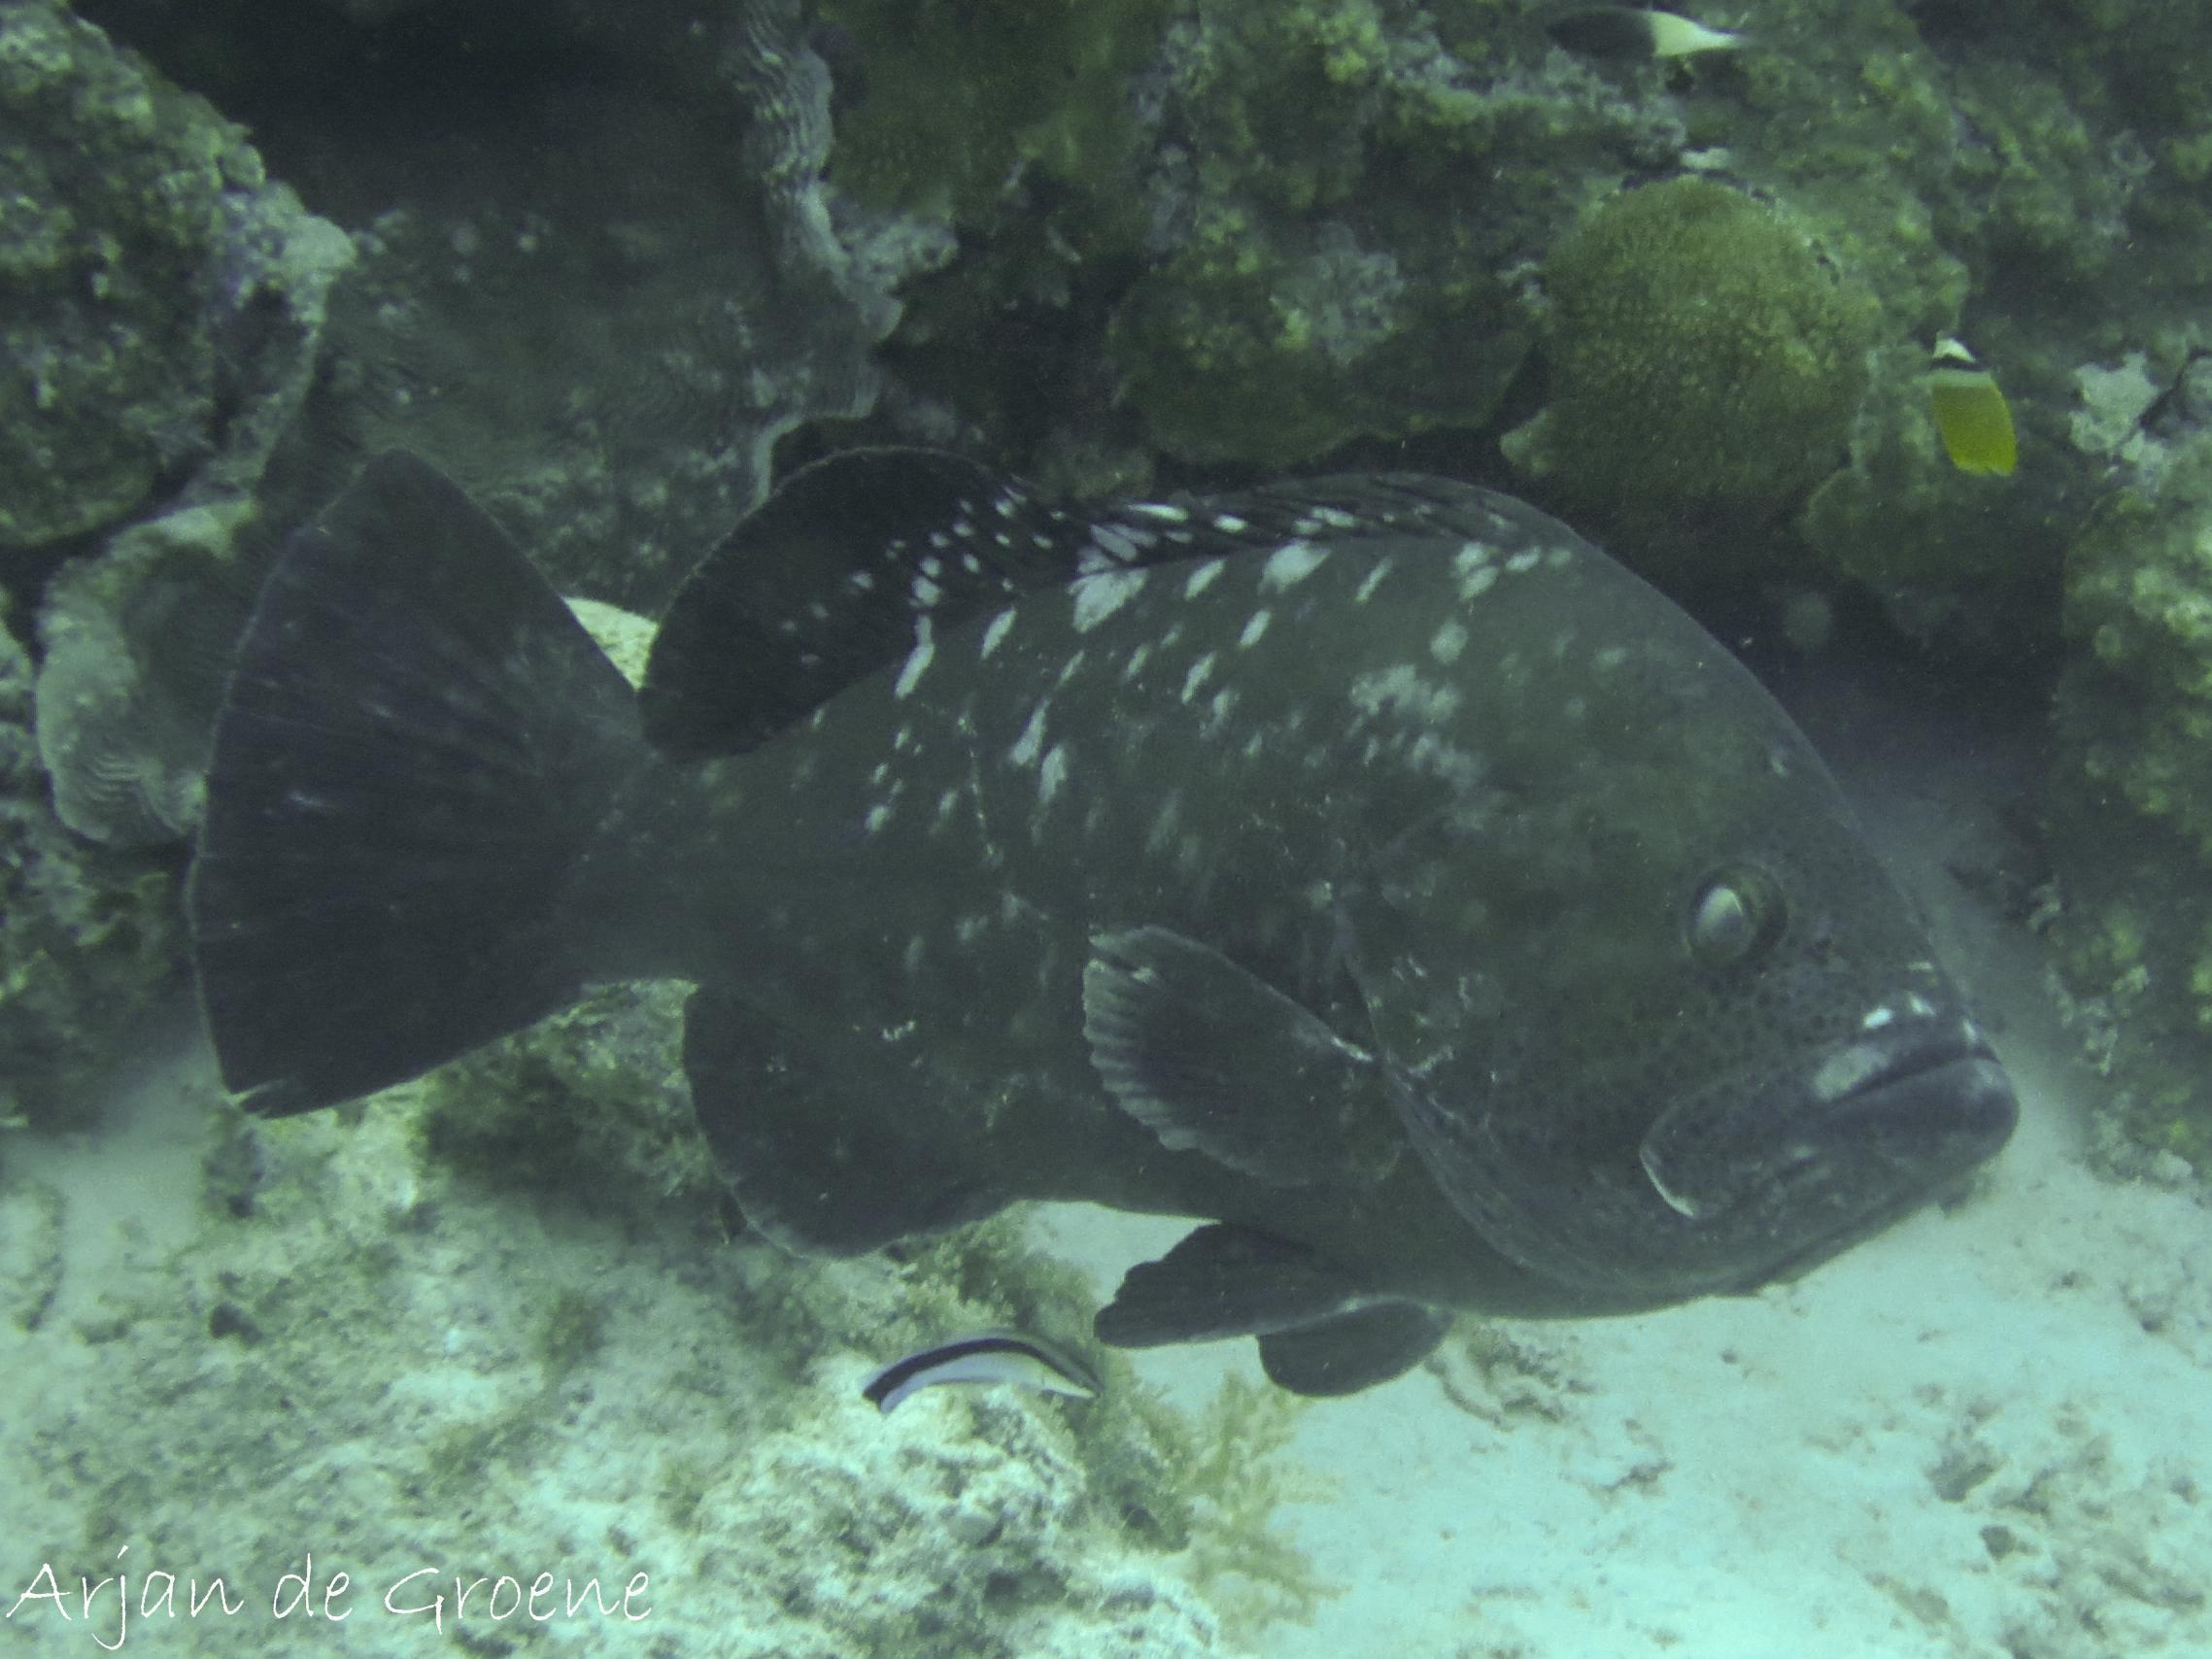Fish: (87, 261, 2050, 1560)
